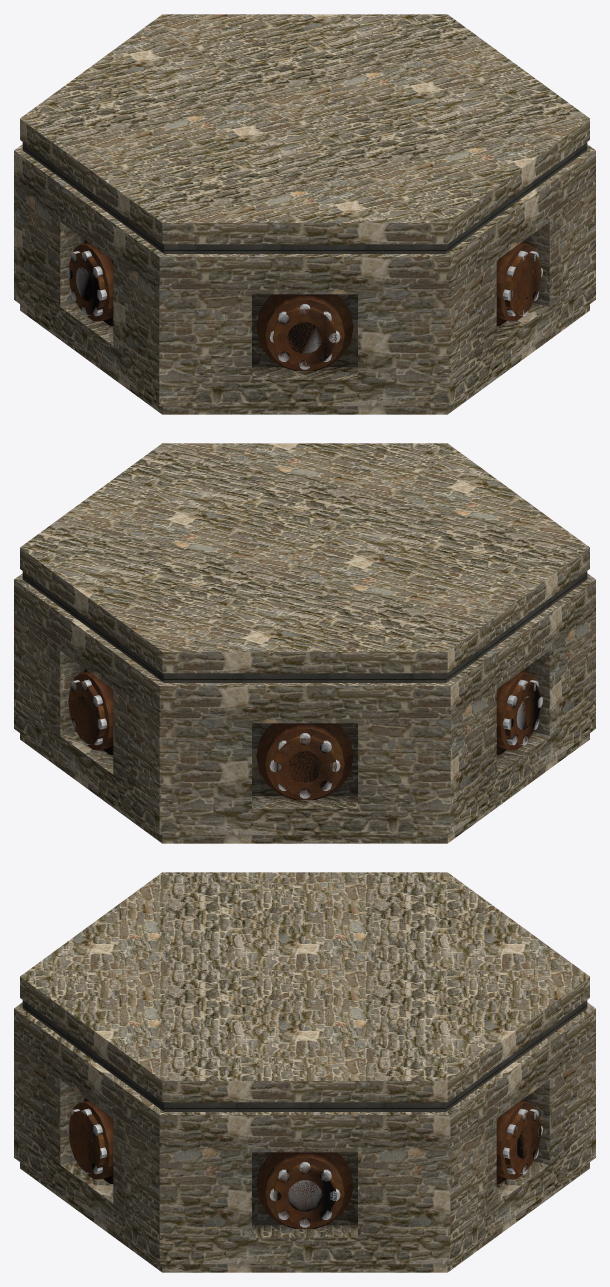
The model's file is base_plate.glb.
3 views of the same model, one above another, from view 1: azimuth 30°, elevation 25°; view 2: azimuth 150°, elevation 25°; view 3: azimuth 270°, elevation 25° (orthographic).
Visible parts, largest first — view 1: BP_Deck, BP_Base, BP_Capstone, BP_PipeStubs, BP_Trim, BP_BaseRim, BP_FlangeDiscs, BP_RecessBacks, BP_Bores, BP_Bolts_4, BP_Bolts_3; view 2: BP_Deck, BP_Base, BP_Capstone, BP_PipeStubs, BP_Trim, BP_BaseRim, BP_FlangeDiscs, BP_RecessBacks, BP_Bores, BP_Bolts_2, BP_Bolts_3; view 3: BP_Deck, BP_Base, BP_Capstone, BP_PipeStubs, BP_Trim, BP_BaseRim, BP_FlangeDiscs, BP_RecessBacks, BP_Bores, BP_Bolts_0.
Part boxes in pixels (x1=…): BP_Deck: x1=20, y1=14, x2=589, y2=244; BP_Base: x1=14, y1=177, x2=595, y2=406; BP_Capstone: x1=14, y1=144, x2=595, y2=283; BP_PipeStubs: x1=69, y1=252, x2=541, y2=366; BP_Trim: x1=22, y1=142, x2=587, y2=253; BP_BaseRim: x1=20, y1=304, x2=589, y2=414; BP_FlangeDiscs: x1=70, y1=242, x2=539, y2=370; BP_RecessBacks: x1=83, y1=240, x2=526, y2=370; BP_Bores: x1=76, y1=267, x2=533, y2=353; BP_Bolts_4: x1=269, y1=304, x2=340, y2=369; BP_Bolts_3: x1=67, y1=250, x2=107, y2=316; BP_Deck: x1=20, y1=443, x2=589, y2=673; BP_Base: x1=14, y1=606, x2=595, y2=835; BP_Capstone: x1=14, y1=573, x2=595, y2=712; BP_PipeStubs: x1=68, y1=681, x2=540, y2=795; BP_Trim: x1=22, y1=571, x2=587, y2=682; BP_BaseRim: x1=20, y1=733, x2=589, y2=843; BP_FlangeDiscs: x1=70, y1=671, x2=539, y2=799; BP_RecessBacks: x1=83, y1=669, x2=526, y2=799; BP_Bores: x1=77, y1=696, x2=533, y2=782; BP_Bolts_2: x1=269, y1=733, x2=340, y2=798; BP_Bolts_3: x1=502, y1=679, x2=542, y2=745; BP_Deck: x1=20, y1=872, x2=589, y2=1102; BP_Base: x1=14, y1=1035, x2=595, y2=1264; BP_Capstone: x1=14, y1=1002, x2=595, y2=1141; BP_PipeStubs: x1=69, y1=1110, x2=541, y2=1224; BP_Trim: x1=22, y1=1000, x2=587, y2=1111; BP_BaseRim: x1=20, y1=1162, x2=589, y2=1272; BP_FlangeDiscs: x1=70, y1=1100, x2=539, y2=1228; BP_RecessBacks: x1=83, y1=1098, x2=526, y2=1228; BP_Bores: x1=87, y1=1128, x2=533, y2=1211; BP_Bolts_0: x1=269, y1=1162, x2=340, y2=1227.
Bounding box in the file's own units: 1.73 × 0.72 × 1.98.
Materials: 5 (3 with a texture image).
